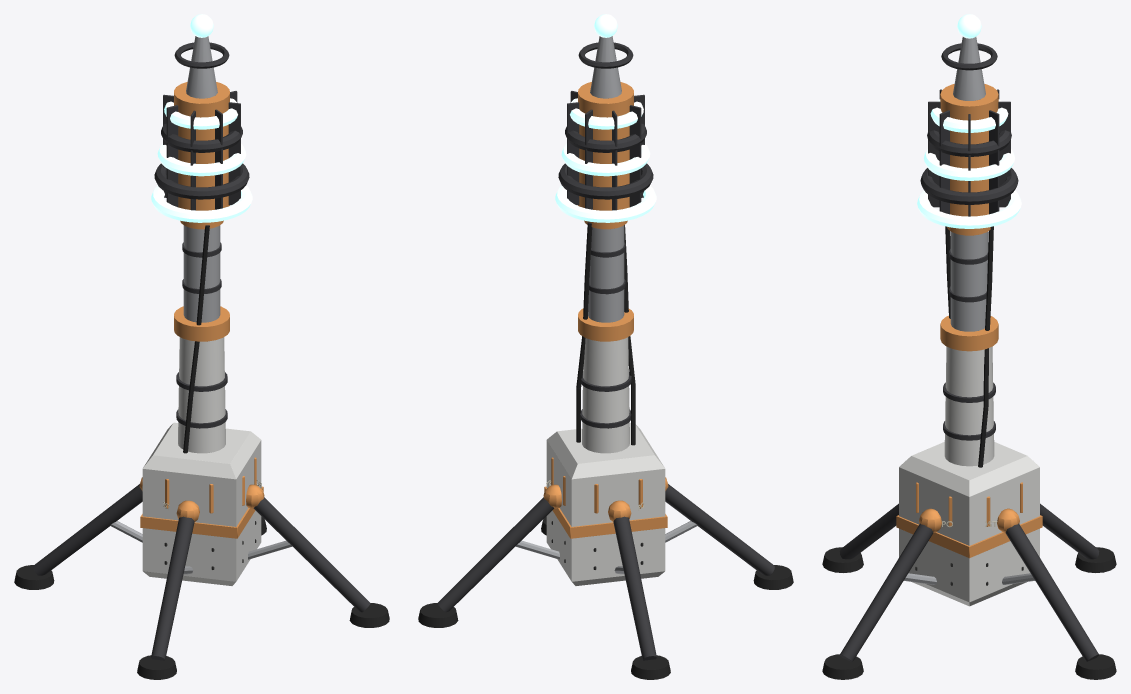
The model's file is powerpost.glb.
3 views of the same model, side by side, from view 1: azimuth 30°, elevation 25°; view 2: azimuth 150°, elevation 25°; view 3: azimuth 270°, elevation 25° (orthographic). The views are drawn at different scales.
Parts seen in each view (by area): view 1: Body; view 2: Body; view 3: Body.
Boxes of the visible parts, x1,y1,x2,y2 form: Body: (14, 14, 389, 679); Body: (418, 14, 793, 679); Body: (822, 14, 1116, 679).
Size of the model in its own units: 0.7081 by 1.6 by 0.7081.
